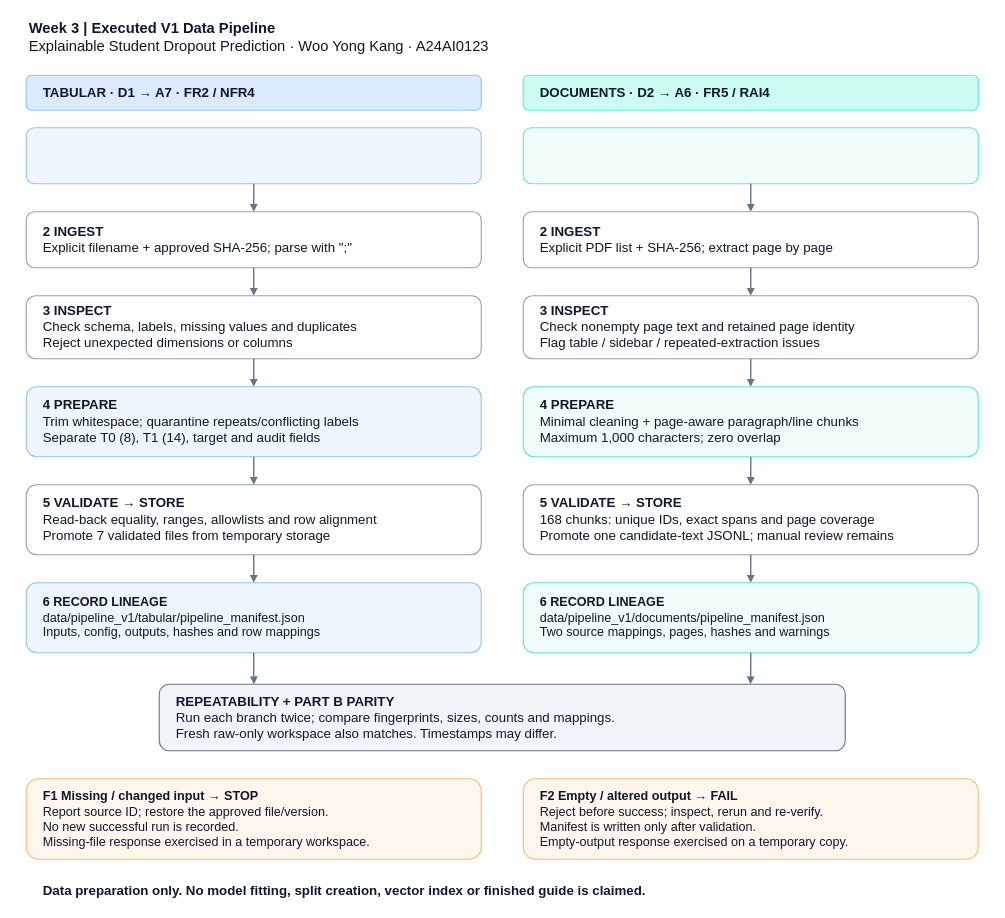
Image size: 1005x918. Some labels were removed from this diagram. Each missing label, with the centre of its shape:
1 SOURCE S01 · UCI CSV · 4,424 records / 36 features: [253,155]
1 SOURCE S02 + S03 · public papers · 17 + 15 PDF pages: [750,155]
